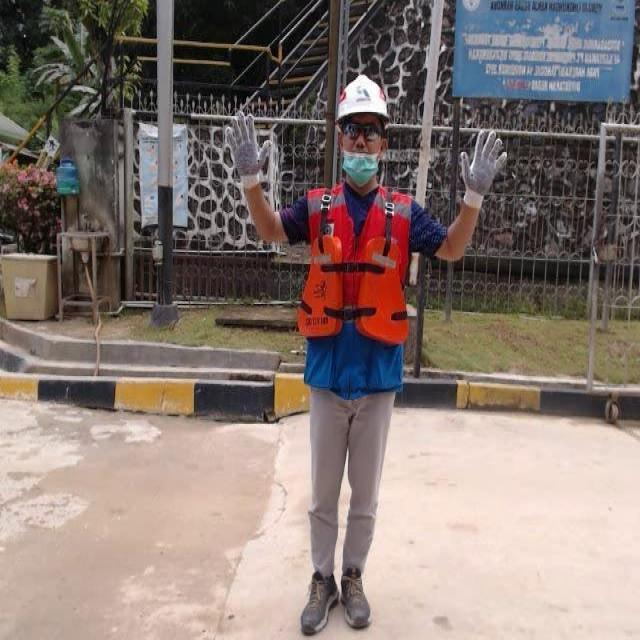helmet: (324, 69, 404, 119)
jacket: (297, 180, 419, 350)
